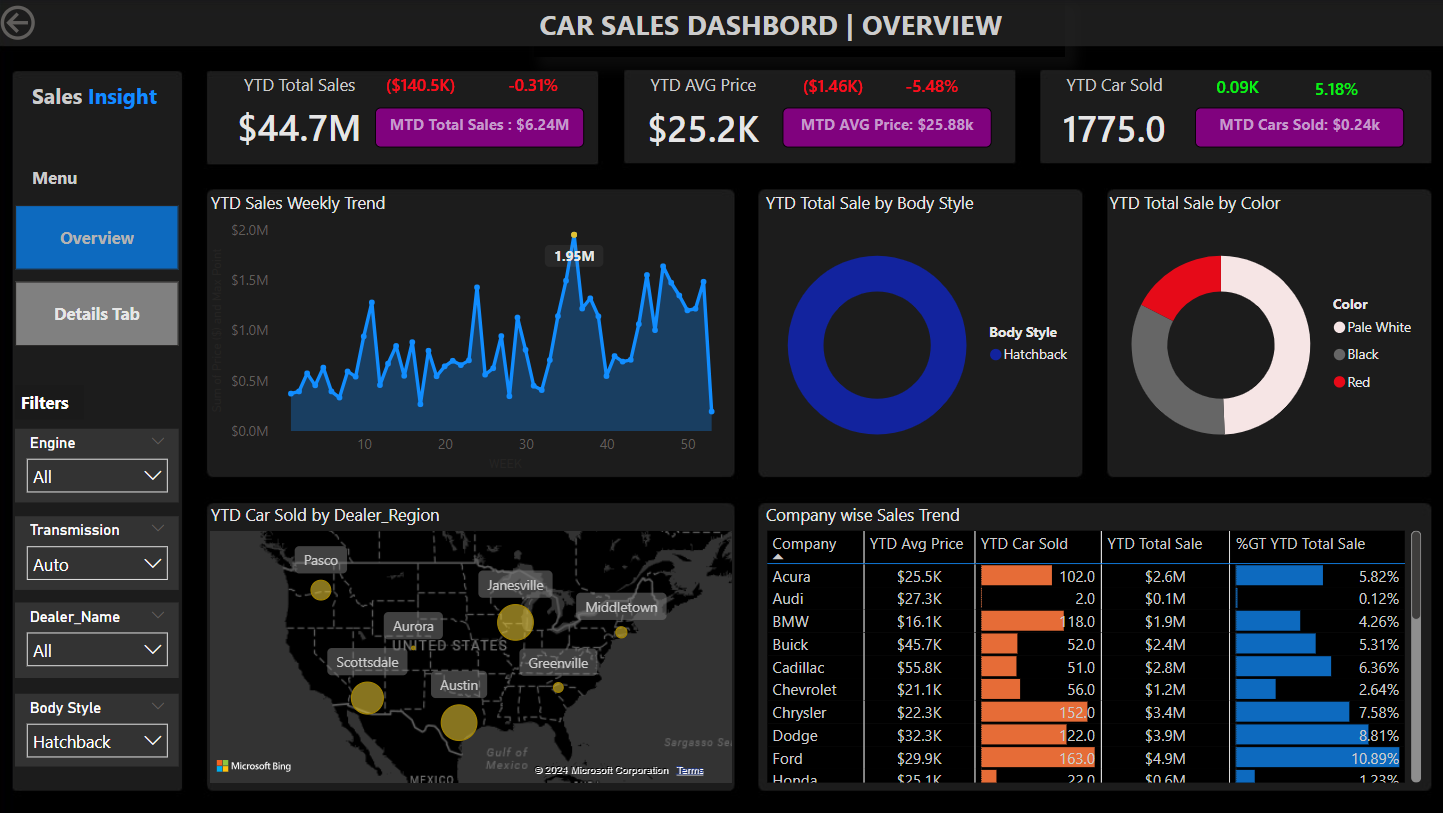

What the dashboard file says about the page in this screenshot:
{"tool":"powerbi","page":{"name":"Overview","canvas":[1280,720],"ordinal":0},"visuals":[{"type":"card","title":"YTD Total Sales","fields":{"Values":["car_data.YTD Total Sale"]},"box":[189.8,64.1,155.3,76.4],"z":0},{"type":"actionButton","box":[0,0,100,40],"z":1000},{"type":"card","fields":{"Values":["car_data.Sales Difference"]},"box":[274.8,49.6,198.5,54.5],"z":2000},{"type":"card","fields":{"Values":["car_data.YoY Sale Growth"]},"box":[374,49.6,198.5,54.5],"z":3000},{"type":"card","fields":{"Values":["car_data.MTD KPI"]},"box":[334.1,94.4,184,35.1],"z":4000},{"type":"card","title":"YTD AVG Price","fields":{"Values":["car_data.YTD Avg Price"]},"box":[561.7,64.2,122.3,78.7],"z":5000},{"type":"card","fields":{"Values":["car_data.AVG Price Diff"]},"box":[637.9,50.8,198.5,54.5],"z":6000},{"type":"card","fields":{"Values":["car_data.YOY Avg Price Growth"]},"box":[725.1,50.8,198.5,54.5],"z":7000},{"type":"card","fields":{"Values":["car_data.MTD AVG KPI"]},"box":[692.4,94.4,184,35.1],"z":8000},{"type":"card","title":"YTD Car Sold","fields":{"Values":["car_data.YTD Car Sold"]},"box":[923.6,64.2,122.3,78.7],"z":9000},{"type":"card","fields":{"Values":["car_data.Car Sold Diff"]},"box":[993.8,52.1,198.5,54.5],"z":10000},{"type":"card","fields":{"Values":["car_data.YOY Car Sold Growth"]},"box":[1081,53.3,198.5,54.5],"z":11000},{"type":"card","fields":{"Values":["car_data.MTD Cars Sold KPI"]},"box":[1055.6,94.4,184,35.1],"z":12000},{"type":"areaChart","title":"YTD Sales Weekly Trend","fields":{"Category":["Calender Table.WEEK"],"Y":["Sum(car_data.Price ($))","car_data.Max Point"]},"box":[185,168,468,251],"z":13000},{"type":"donutChart","fields":{"Category":["car_data.Body Style"],"Y":["car_data.YTD Total Sale"]},"box":[672.6,167.9,284.5,251.2],"z":14000},{"type":"donutChart","fields":{"Y":["car_data.YTD Total Sale"],"Category":["car_data.Color"]},"box":[975,167.9,284.5,251.2],"z":15000},{"type":"tableEx","title":"Company wise Sales Trend","fields":{"Values":["car_data.Company","car_data.YTD Avg Price","car_data.YTD Car Sold","car_data.YTD Total Sale1","car_data.YTD Total Sale"]},"box":[672.6,441.7,586.9,251.2],"z":16000},{"type":"textbox","box":[474,0,467,50],"z":17000},{"type":"slicer","fields":{"Values":["car_data.Body Style"]},"box":[17.4,610.5,144.2,64],"z":18000},{"type":"slicer","fields":{"Values":["car_data.Dealer_Name"]},"box":[17.4,530.2,144.2,66.3],"z":19000},{"type":"slicer","fields":{"Values":["car_data.Engine"]},"box":[17.4,376.7,144.2,65.1],"z":20000},{"type":"slicer","fields":{"Values":["car_data.Transmission"]},"box":[17.4,454.7,144.2,65.1],"z":21000},{"type":"textbox","box":[17.4,338.4,60.5,30.2],"z":22000},{"type":"pageNavigator","box":[17.4,180.2,144.2,125.6],"z":23000},{"type":"textbox","box":[27.9,140.7,84.9,39.5],"z":24000},{"type":"textbox","box":[27.9,67.4,125.6,61.6],"z":25000},{"type":"map","fields":{"Category":["car_data.Dealer_Region"],"Size":["car_data.YTD Car Sold"]},"box":[184.9,441.9,468.6,251.2],"z":26000}]}

Visuals, with their boxes in screenshot pixels (x1, y1, x2, y2), scaled from the page's 1280x720 canvas onto the 1443x813 screenshot:
"YTD Total Sales" card: {"left": 214, "top": 72, "right": 389, "bottom": 159}
actionButton: {"left": 0, "top": 0, "right": 113, "bottom": 45}
card - car_data.Sales Difference: {"left": 310, "top": 56, "right": 534, "bottom": 118}
card - car_data.YoY Sale Growth: {"left": 422, "top": 56, "right": 645, "bottom": 118}
card - car_data.MTD KPI: {"left": 377, "top": 107, "right": 584, "bottom": 146}
"YTD AVG Price" card: {"left": 633, "top": 72, "right": 771, "bottom": 161}
card - car_data.AVG Price Diff: {"left": 719, "top": 57, "right": 943, "bottom": 119}
card - car_data.YOY Avg Price Growth: {"left": 817, "top": 57, "right": 1041, "bottom": 119}
card - car_data.MTD AVG KPI: {"left": 781, "top": 107, "right": 988, "bottom": 146}
"YTD Car Sold" card: {"left": 1041, "top": 72, "right": 1179, "bottom": 161}
card - car_data.Car Sold Diff: {"left": 1120, "top": 59, "right": 1344, "bottom": 120}
card - car_data.YOY Car Sold Growth: {"left": 1219, "top": 60, "right": 1442, "bottom": 122}
card - car_data.MTD Cars Sold KPI: {"left": 1190, "top": 107, "right": 1397, "bottom": 146}
"YTD Sales Weekly Trend" areaChart: {"left": 209, "top": 190, "right": 736, "bottom": 473}
donutChart - car_data.Body Style x car_data.YTD Total Sale: {"left": 758, "top": 190, "right": 1079, "bottom": 473}
donutChart - car_data.YTD Total Sale x car_data.Color: {"left": 1099, "top": 190, "right": 1420, "bottom": 473}
"Company wise Sales Trend" tableEx: {"left": 758, "top": 499, "right": 1420, "bottom": 782}
textbox: {"left": 534, "top": 0, "right": 1061, "bottom": 56}
slicer - car_data.Body Style: {"left": 20, "top": 689, "right": 182, "bottom": 762}
slicer - car_data.Dealer_Name: {"left": 20, "top": 599, "right": 182, "bottom": 674}
slicer - car_data.Engine: {"left": 20, "top": 425, "right": 182, "bottom": 499}
slicer - car_data.Transmission: {"left": 20, "top": 513, "right": 182, "bottom": 587}
textbox: {"left": 20, "top": 382, "right": 88, "bottom": 416}
pageNavigator: {"left": 20, "top": 203, "right": 182, "bottom": 345}
textbox: {"left": 31, "top": 159, "right": 127, "bottom": 203}
textbox: {"left": 31, "top": 76, "right": 173, "bottom": 146}
map - car_data.Dealer_Region x car_data.YTD Car Sold: {"left": 208, "top": 499, "right": 737, "bottom": 783}
